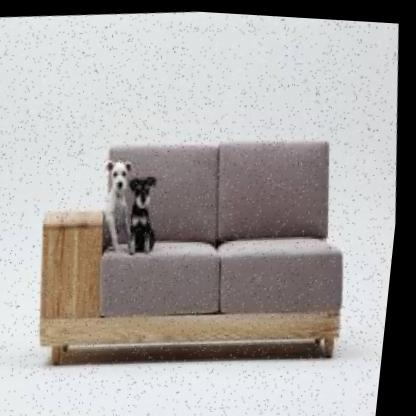Sofa: (1, 86, 382, 398)
